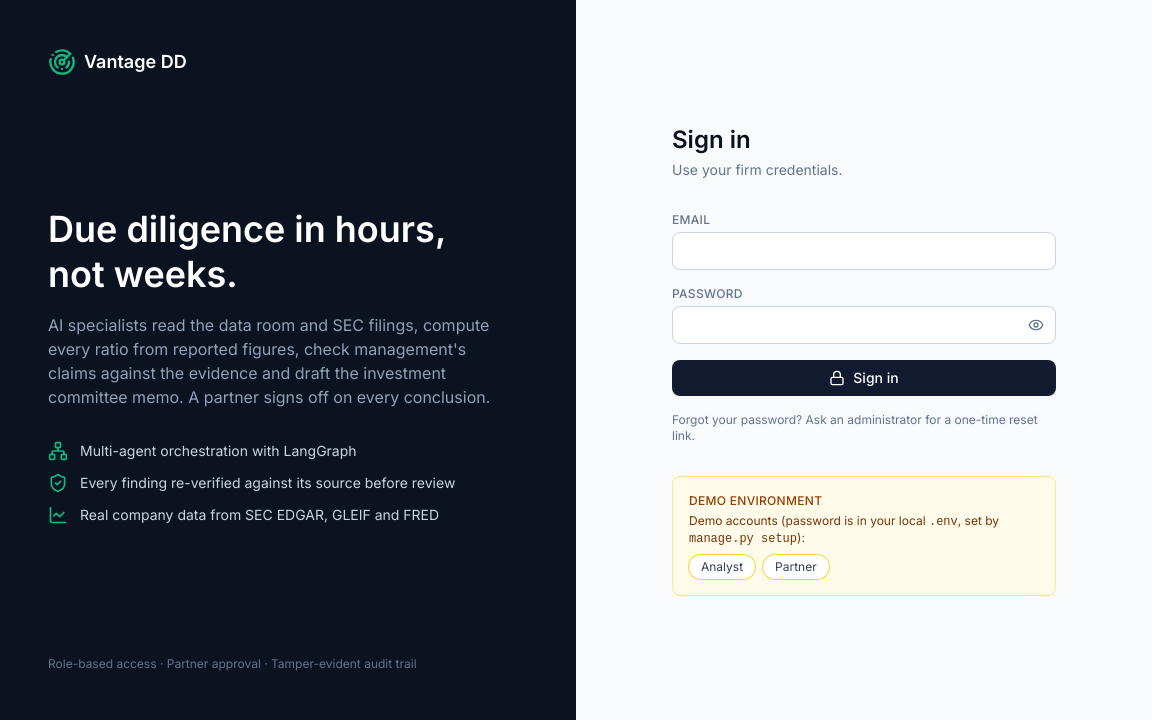
Test: Login page › demo chips fill the email only
This screenshot has width=1152, height=720.
Click the button "partner": (796, 567) [763,555,829,579]
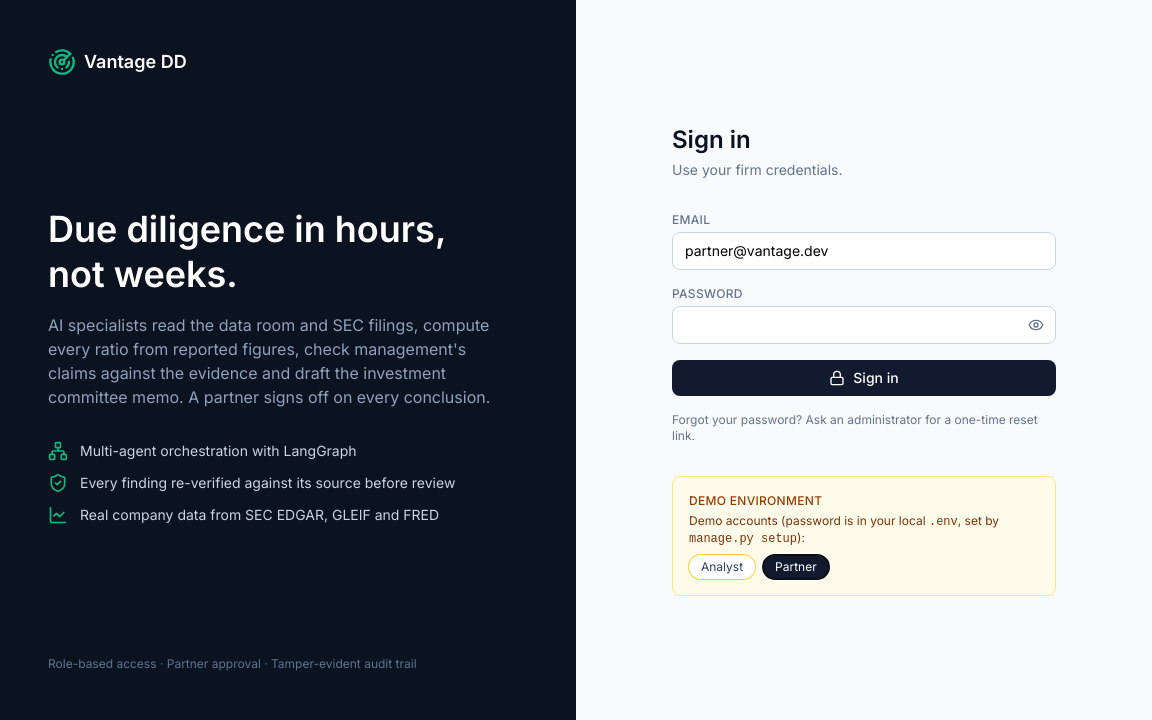
Expected: the password field labelled "Password" is empty, [672,306,1056,344]
Now the field labelled "Email" holds "partner@vantage.dev", box [672,232,1056,270]
